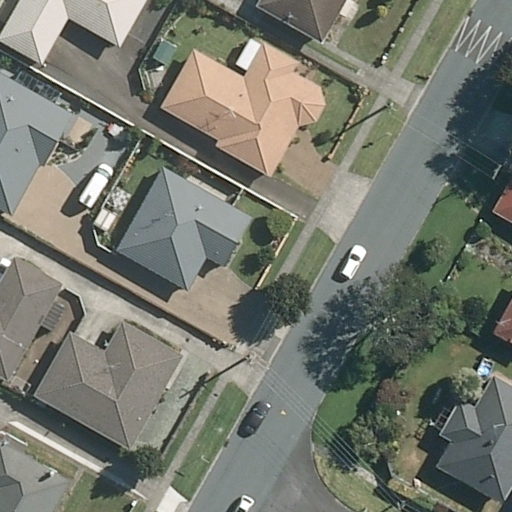DT: (239, 344, 267, 376)
